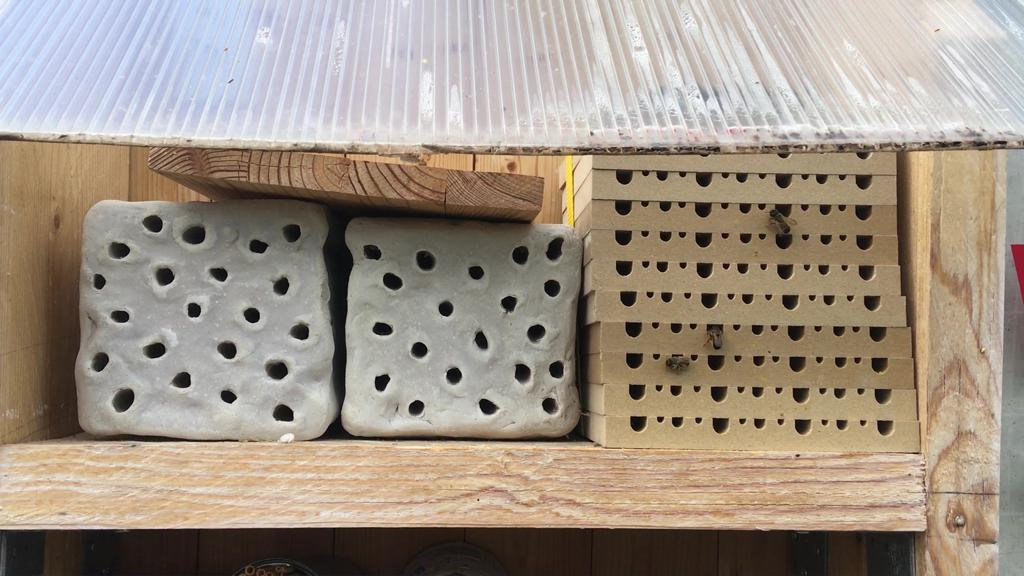bee: (702, 321, 730, 352)
